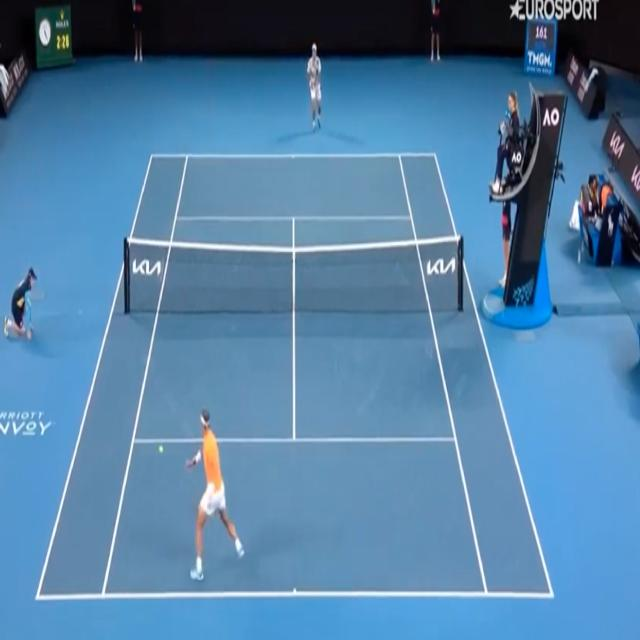ball: (158, 444, 164, 454)
